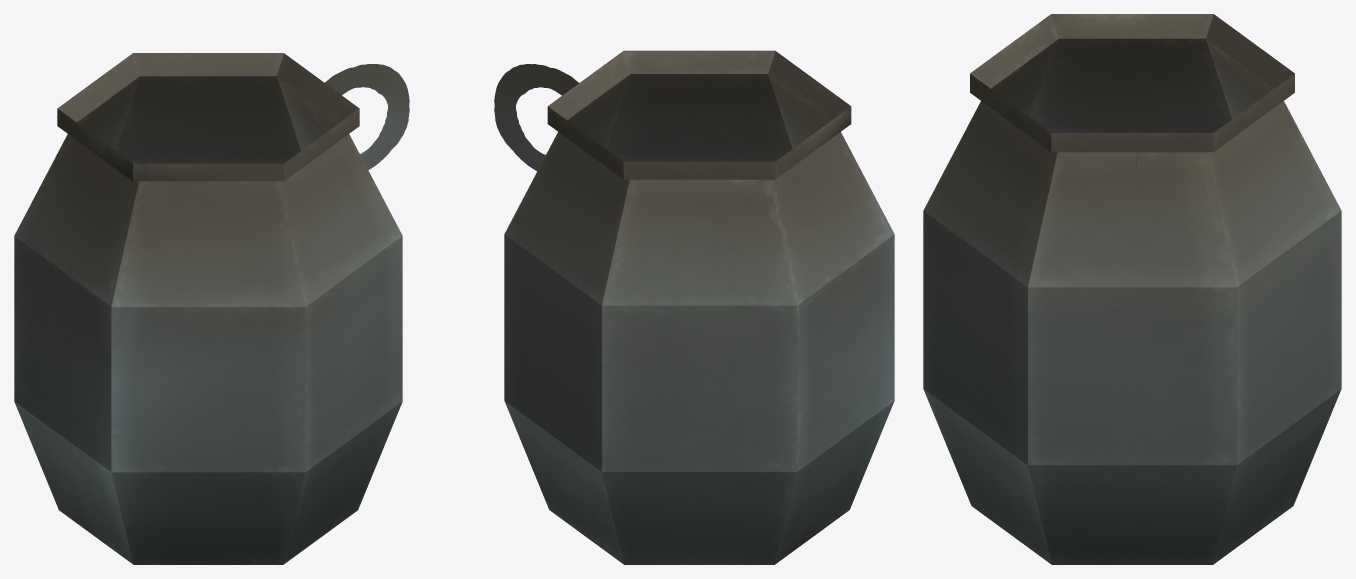
File: Jug_2.fbx
3 views of the same model, side by side, from view 1: azimuth 30°, elevation 25°; view 2: azimuth 150°, elevation 25°; view 3: azimuth 270°, elevation 25° (orthographic). The views are drawn at different scales.
Parts seen in each view (by area): view 1: Jug_2; view 2: Jug_2; view 3: Jug_2.
Boxes of the visible parts, bbox=[...] form: Jug_2: bbox=[14, 53, 409, 564]; Jug_2: bbox=[494, 50, 894, 564]; Jug_2: bbox=[923, 14, 1341, 564].
Size of the model in its own units: 30.42 by 34.87 by 27.19.
